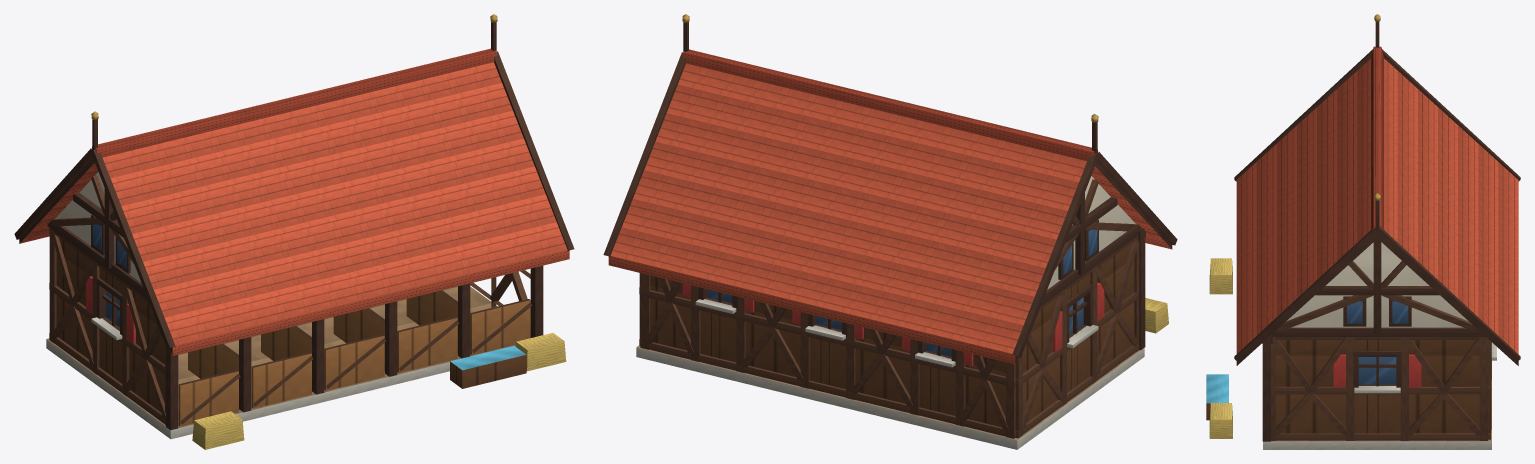
File: ind_stable_01.glb
3 renders of one model, left to right at view 1: azimuth 30°, elevation 25°; view 2: azimuth 150°, elevation 25°; view 3: azimuth 270°, elevation 25°, orthographic. The views are drawn at different scales.
Visible parts, largest first — view 1: ind_stable_01; view 2: ind_stable_01; view 3: ind_stable_01.
Boxes of the visible parts, x1,y1,x2,y2 form: ind_stable_01: [14, 14, 574, 449]; ind_stable_01: [603, 14, 1177, 449]; ind_stable_01: [1206, 14, 1520, 449].
Size of the model in its own units: 11.37 by 7.66 by 8.31.
1 material, 1 textured.
